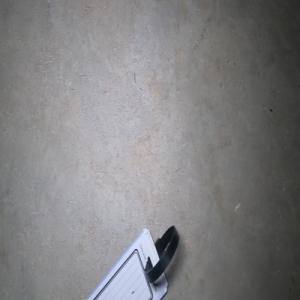LuggageTag: (83, 224, 180, 300)
